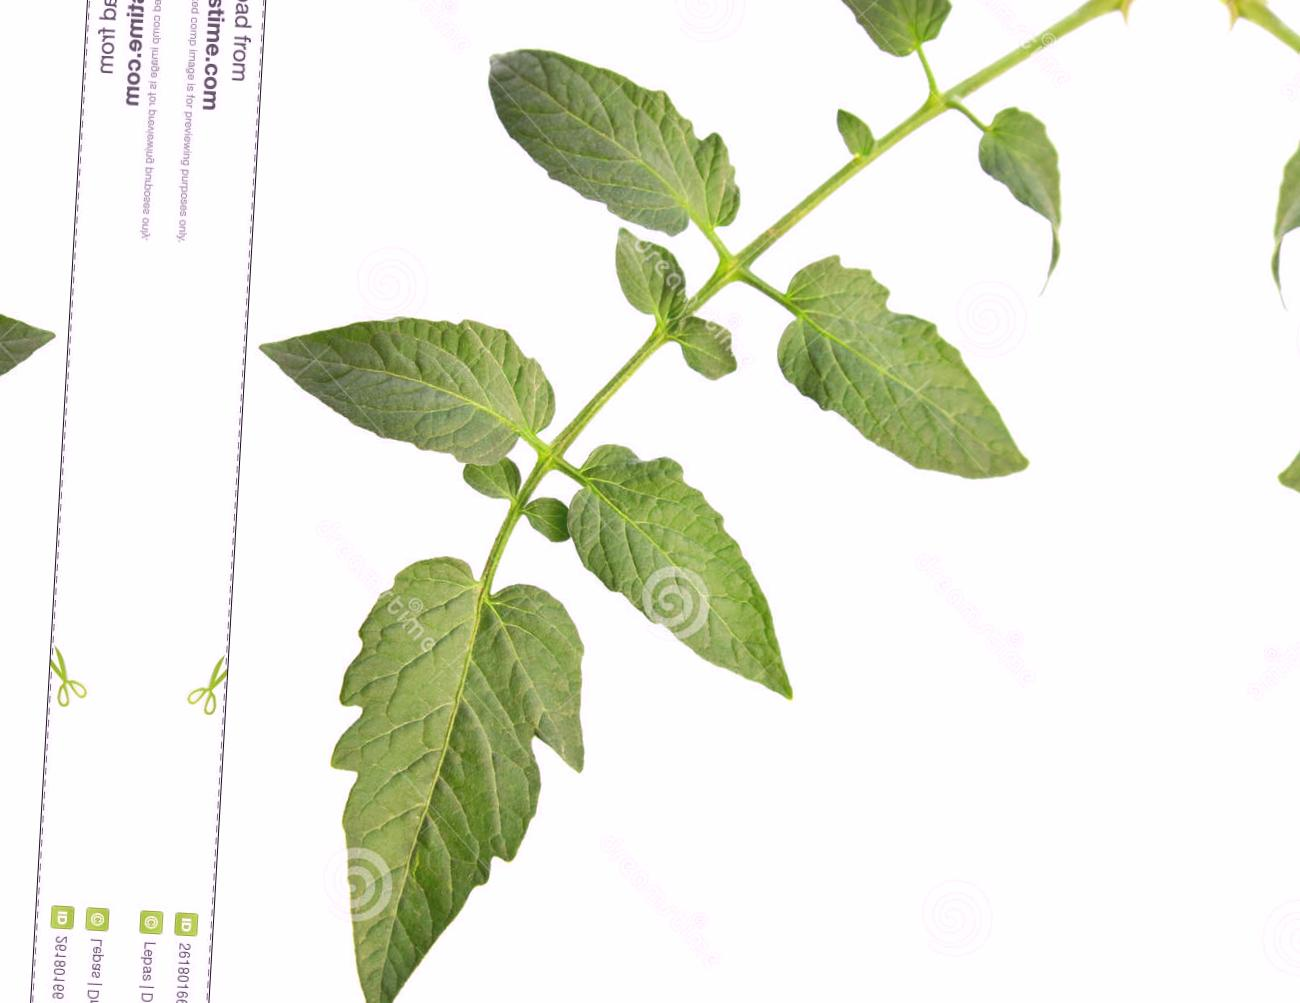Tomato leaf: (245, 560, 621, 1003), (735, 196, 1079, 536), (245, 243, 583, 552), (534, 448, 822, 733), (456, 0, 767, 258), (939, 100, 1103, 295), (764, 0, 962, 78)
